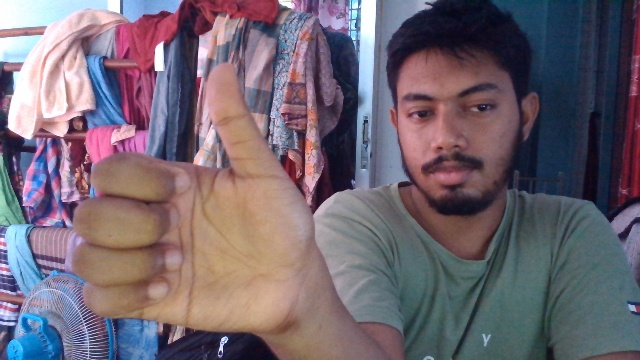yes: (76, 58, 317, 343)
